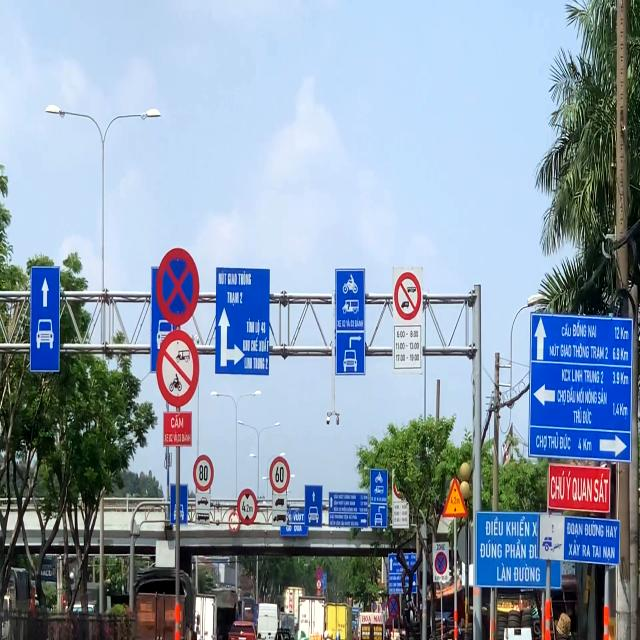P.117: (237, 488, 258, 525)
P.127: (193, 454, 214, 492), (269, 456, 290, 494)
P.130: (156, 247, 200, 326), (435, 552, 447, 574), (388, 594, 399, 618), (316, 567, 322, 579)
S.509a: (442, 476, 468, 518)
